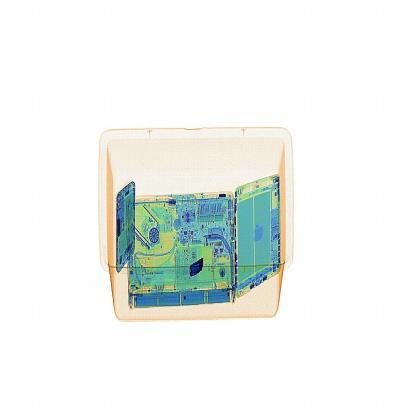knife: (187, 258, 209, 279)
